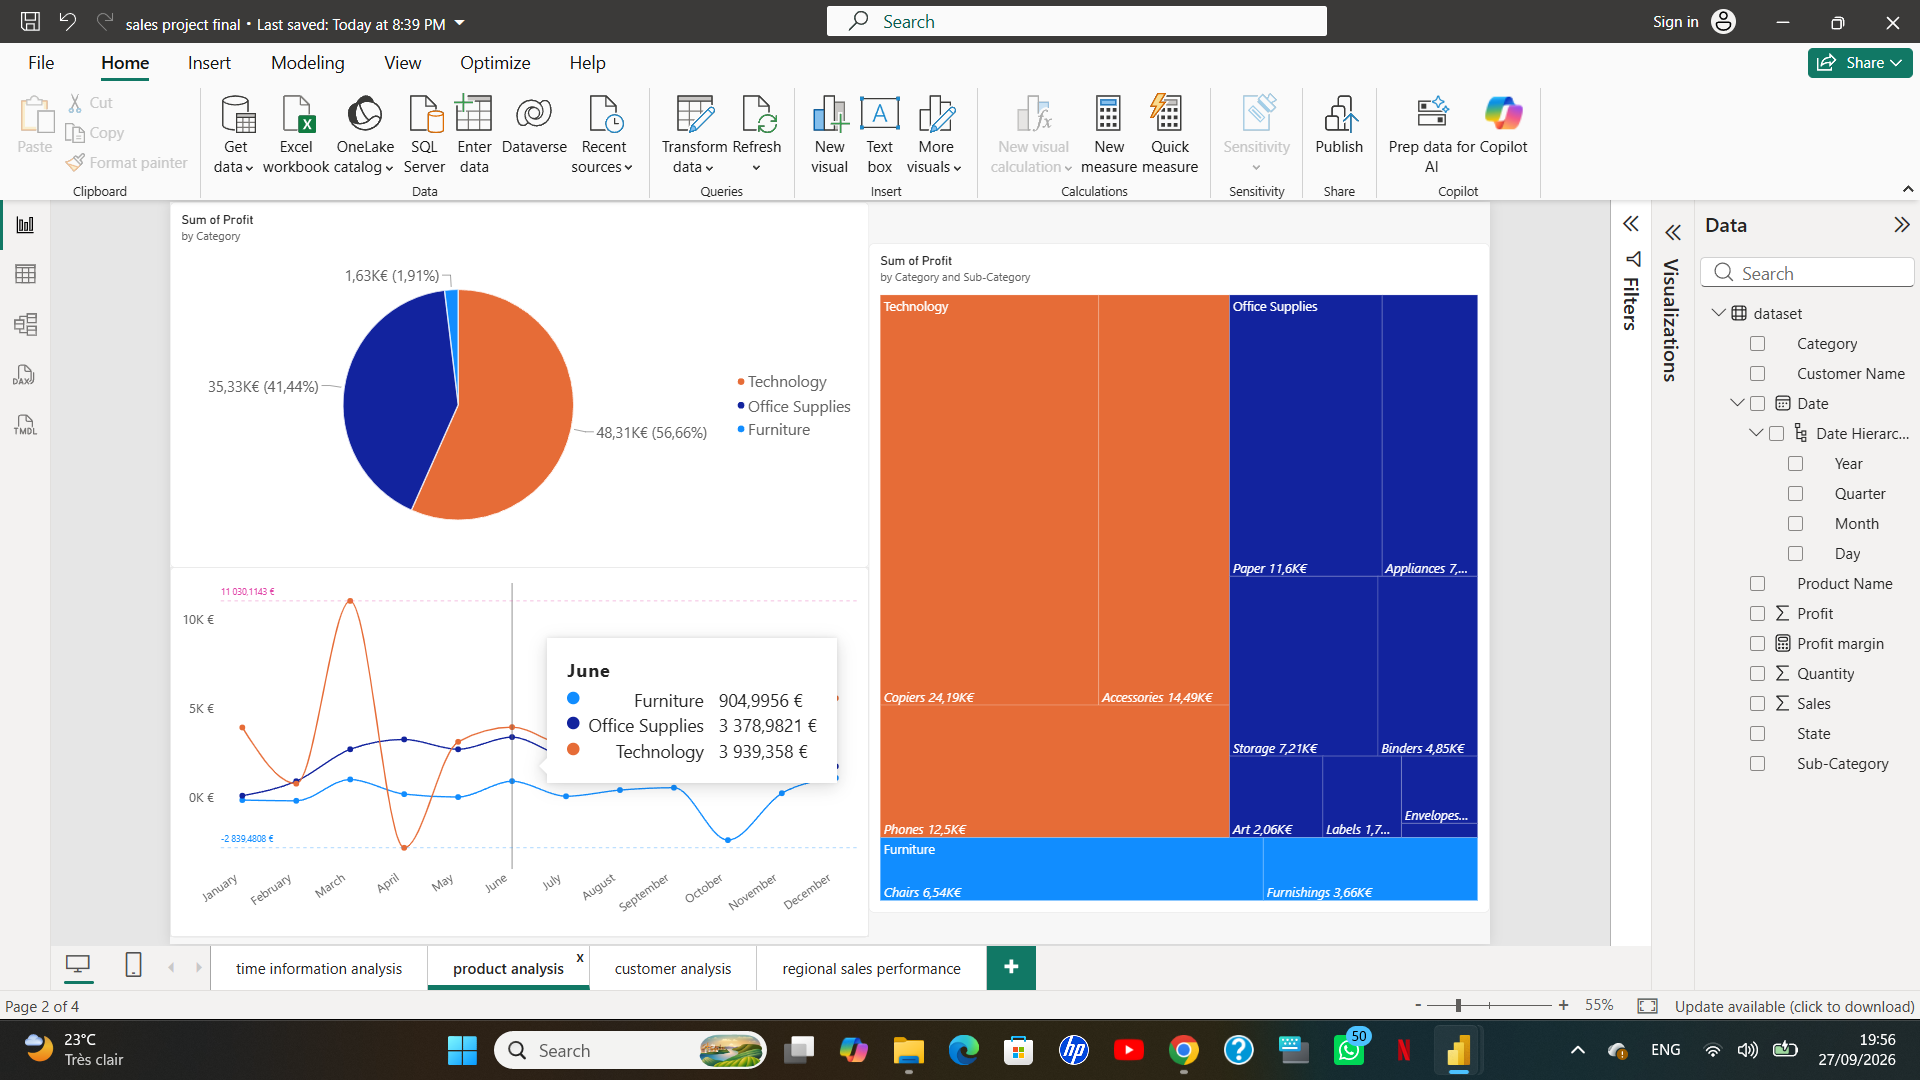

This screenshot's page, from the dashboard's own definition file:
{"tool":"powerbi","page":{"name":"product analysis","canvas":[1920,1080],"ordinal":1},"visuals":[{"type":"lineChart","fields":{"Category":["dataset.Date.Variation.Date Hierarchy.Month"],"Series":["dataset.Category"],"Y":["Sum(dataset.Profit)"]},"box":[0,530.2,1017,539.3],"z":1},{"type":"pieChart","fields":{"Category":["dataset.Category"],"Y":["Sum(dataset.Profit)"]},"box":[0,0,1017,532],"z":2},{"type":"treemap","fields":{"Details":["dataset.Sub-Category"],"Group":["dataset.Category"],"Values":["Sum(dataset.Profit)"]},"box":[1017,59.7,903,973.6],"z":3}]}

Visuals, with their boxes on the page's 1920x1080 design canvas (x1, y1, x2, y2). These are canvas units, not pixel positions in the 1920x1080 screenshot, which may show the page scaled, cropped or inside an application window:
lineChart - dataset.Date.Variation.Date Hierarchy.Month x dataset.Category: [left=0, top=530, right=1017, bottom=1070]
pieChart - dataset.Category x Sum(dataset.Profit): [left=0, top=0, right=1017, bottom=532]
treemap - dataset.Sub-Category x dataset.Category: [left=1017, top=60, right=1920, bottom=1033]
